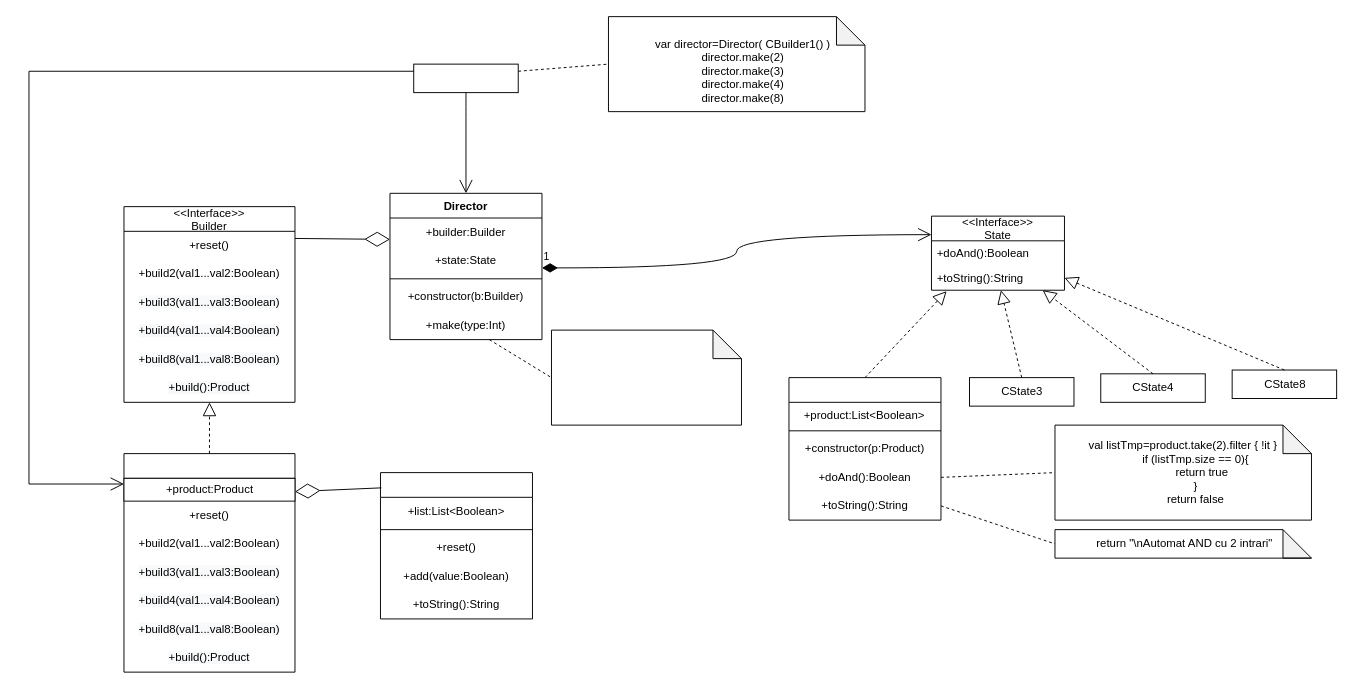
Image size: 1354x689. Some labels were removed from this diagram. The box of each missing label's shape, as (x1, y1, x2, y2) in pixels:
CBuilder1: (123, 453, 295, 672)
Client: (413, 63, 518, 93)
CState2: (788, 377, 941, 520)
list=readList(type elements) switch(type){ case 2: case 3: case 4 cast 8:}: (551, 329, 741, 425)
Product: (380, 472, 532, 619)
